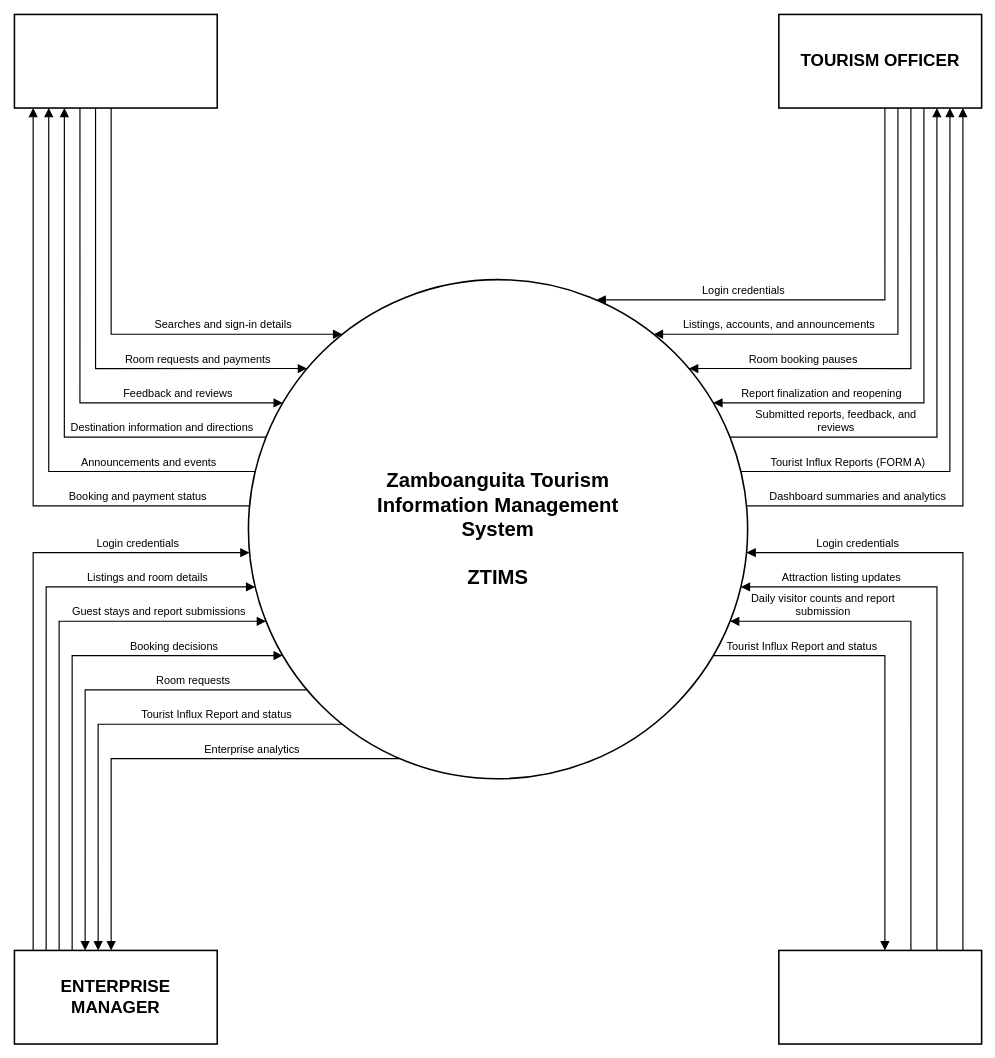
Some shapes in this 995 by 1058 pixel diagram are drawn without their labels. The shapes that lost their labels are listed below. From the top down, each one's box as (x1, y1, x2, y2) in pixels, then its label:
(13, 13, 218, 108): TOURIST
(778, 949, 982, 1044): SUPPORT STAFF
